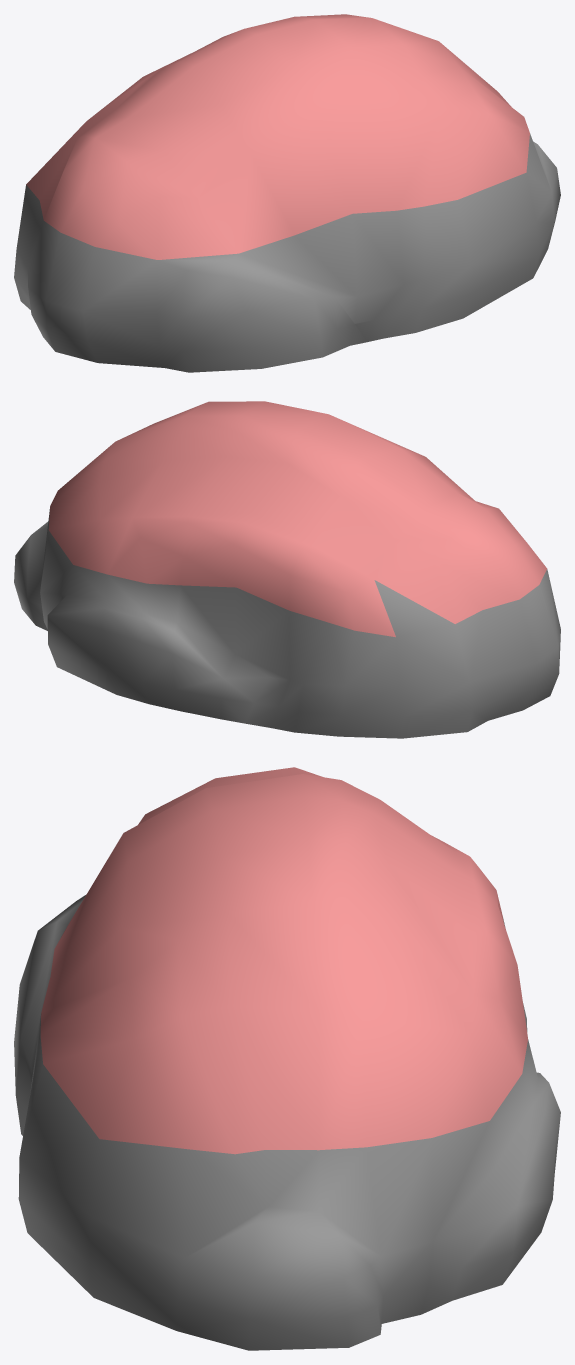
File: sporeseastoneA03.gltf
The picture shows the model from 3 angles, top to bottom: view 1: azimuth 30°, elevation 25°; view 2: azimuth 150°, elevation 25°; view 3: azimuth 270°, elevation 25°; orthographic projection. The views are drawn at different scales.
Visible parts, largest first — view 1: sporeseastoneA03; view 2: sporeseastoneA03; view 3: sporeseastoneA03.
Boxes of the visible parts, box(x1,y1,x2,y2) form: sporeseastoneA03: box(14, 14, 560, 372); sporeseastoneA03: box(14, 401, 560, 738); sporeseastoneA03: box(14, 767, 560, 1350).
Size of the model in its own units: 2.86 by 1.33 by 1.76.
